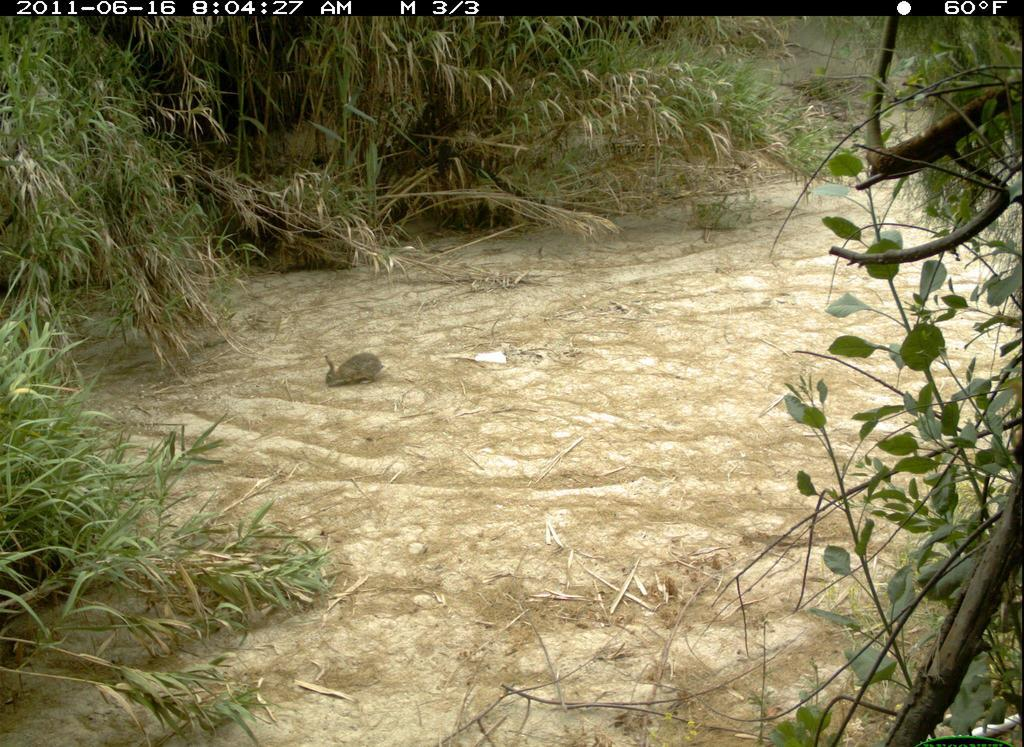rabbit: (312, 344, 393, 396)
